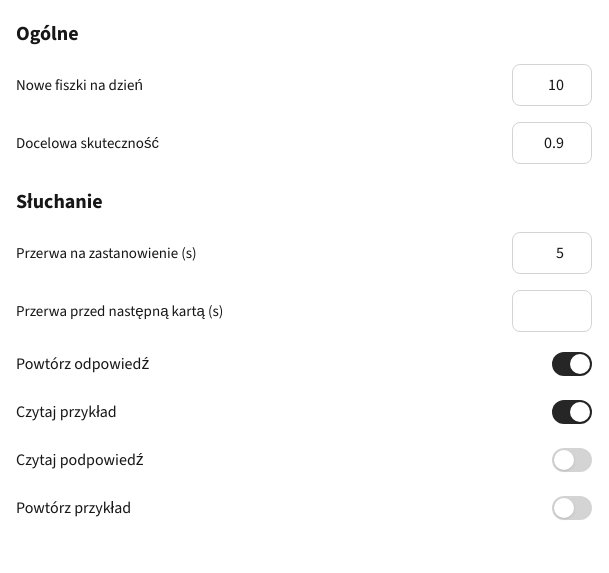
Test: SettingsPage › shows the error and reverts the listening controls when a save is rejected
Replace the text in the number field showing "5" with "99" at [552, 253], box [512,232,592,274]
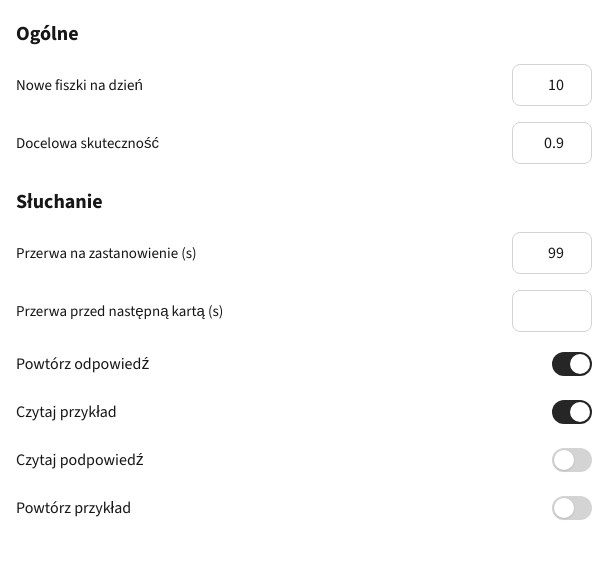
Leave the number field showing "5", box [512,232,592,274]
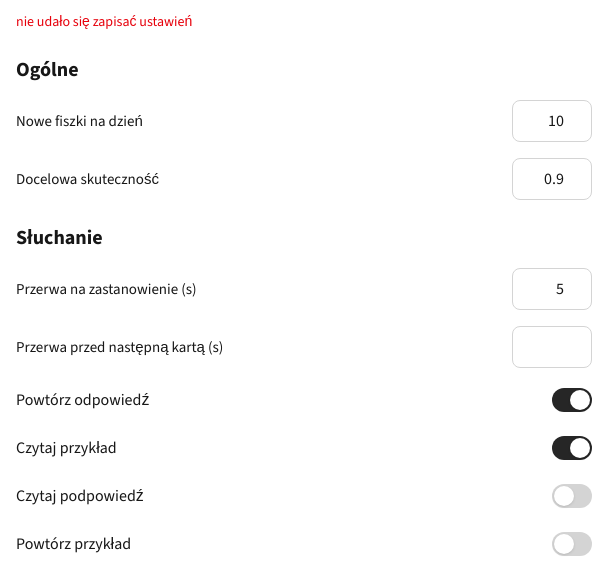
expect the field showing "99" is not shown: met
expect the text "nie udało się zapisać ustawień" is shown: met, box [16,12,192,31]
expect the number field showing "5" is shown: met, box [512,268,592,310]
